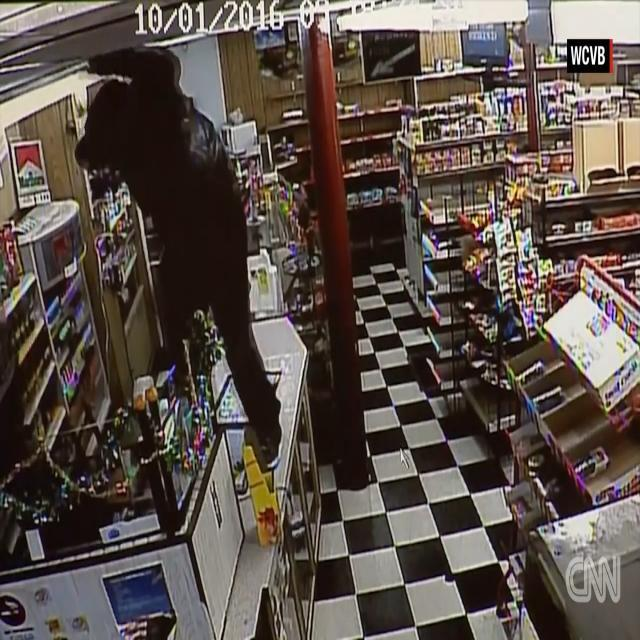violence: (53, 48, 285, 466)
